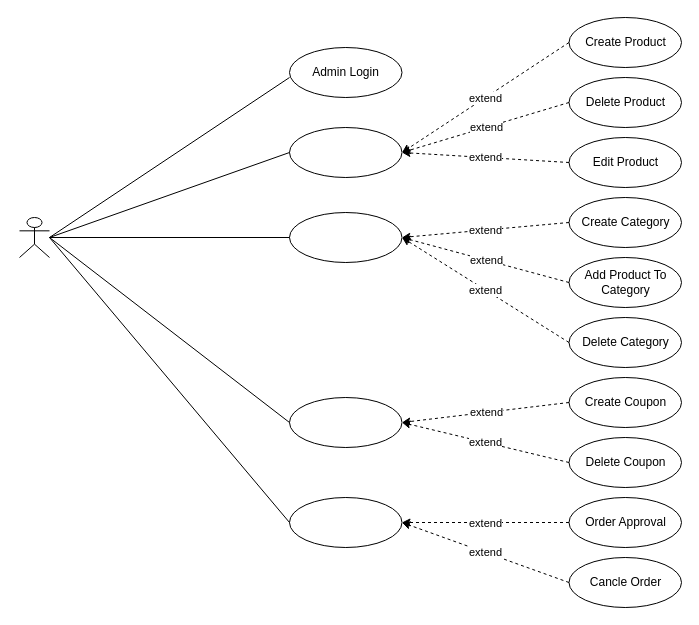
Image size: 699x625. Some labels were removed from this diagram. The shapes that lost their labels are listed below. From the top down, each one's box as (x1, y1, x2, y2) in pixels, then its label:
(288, 126, 402, 178): Manage Product
(18, 216, 50, 258): Admin
(288, 212, 402, 262): Manage Category
(288, 396, 402, 448): Manage Coupon
(288, 496, 402, 548): Manage Order
